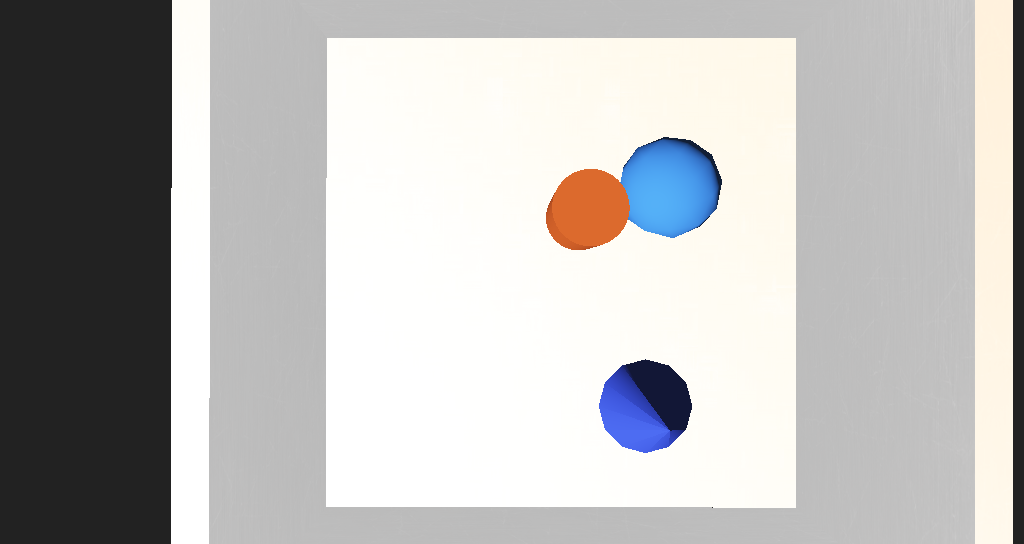cone: (495, 227, 542, 260)
cylinder: (536, 310, 596, 358)
sphere: (542, 212, 603, 255)
